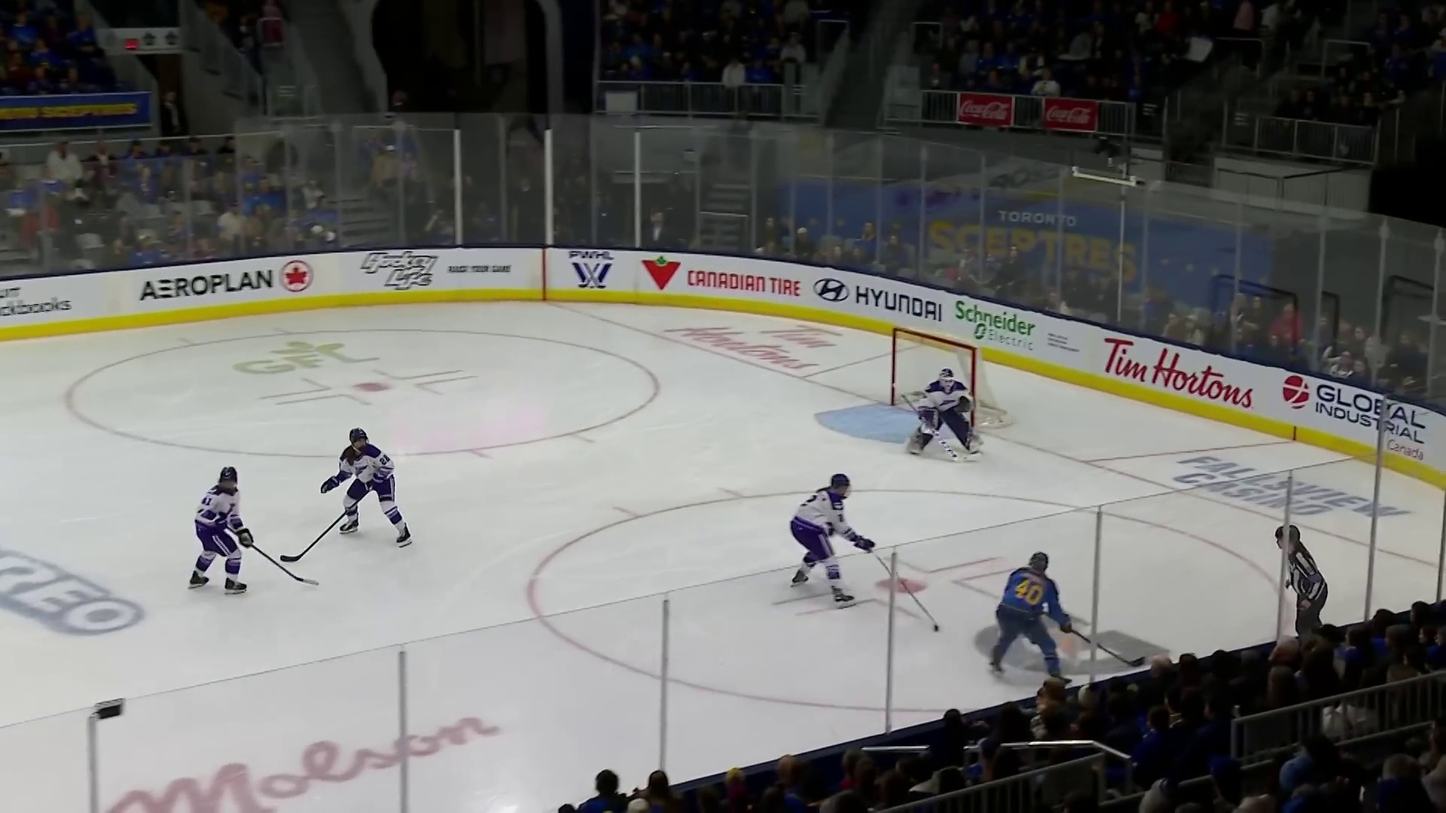goaltender: (905, 366, 987, 457)
player: (789, 472, 879, 609), (318, 427, 414, 546), (990, 550, 1075, 677), (187, 465, 256, 595)
